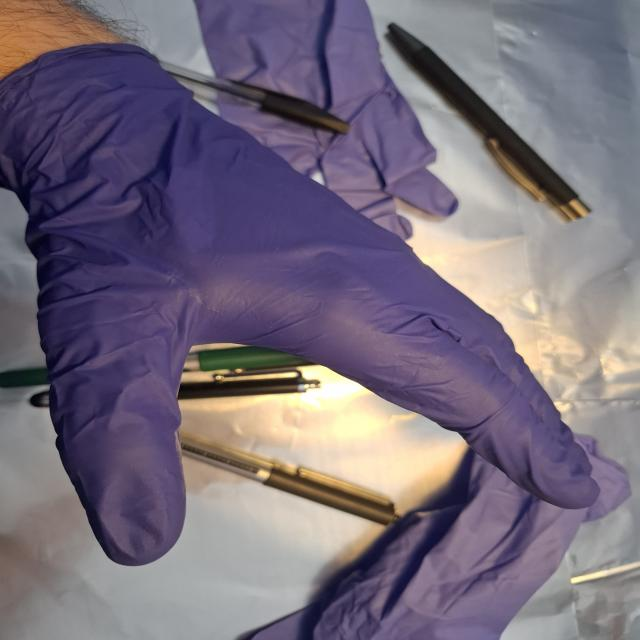glove_on: (0, 39, 604, 568)
